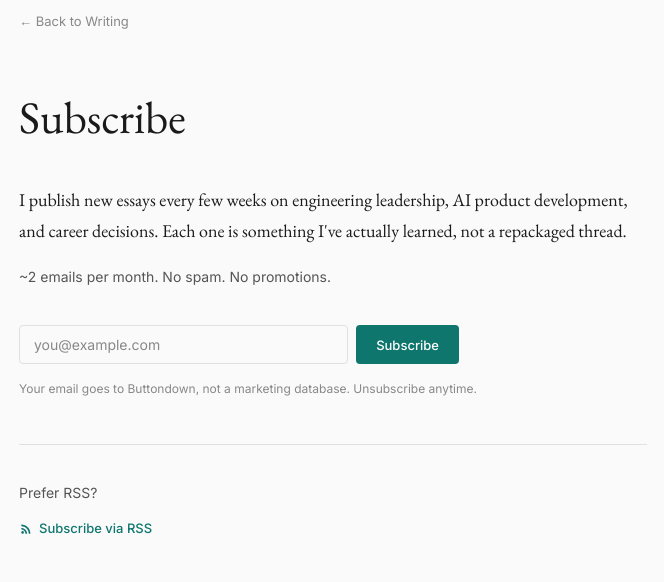
it: Subscribe page — error states › shows "already subscribed" message on 409 response
Type "test@example.com" into the field named "Email address". click: {"x": 184, "y": 344}
box: [19,325,348,364]
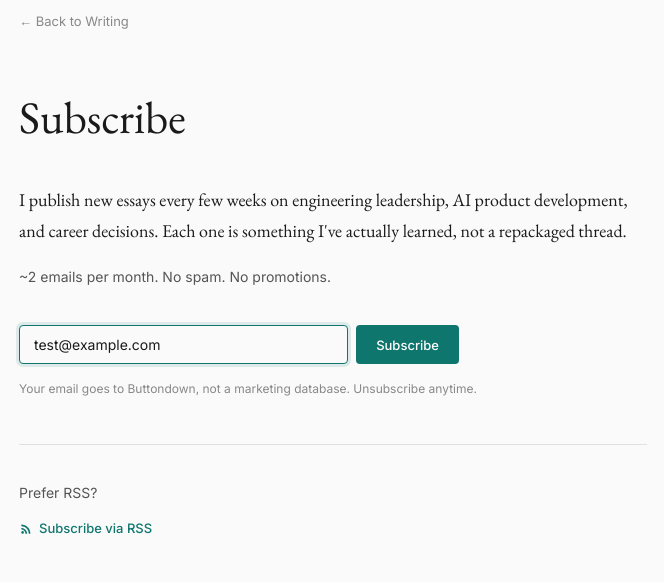
Click the button "Subscribe". click: {"x": 408, "y": 344}
box: [356,325,459,364]
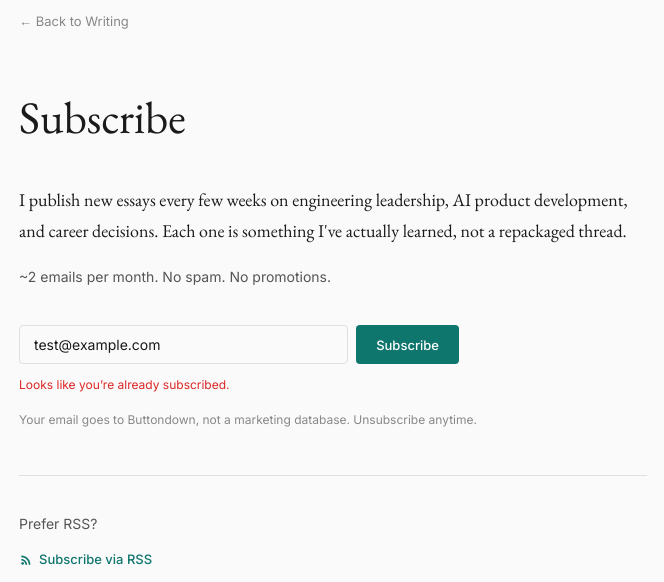
Check: the text "Looks like you’re already subscribed." is shown, box [19,377,230,392]
